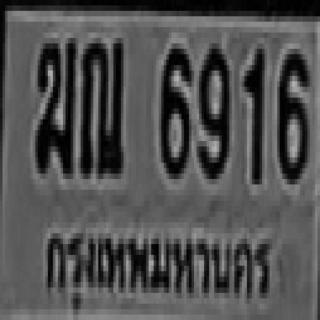A06: (34, 35, 74, 171)
A19: (78, 33, 121, 174)
N01: (242, 44, 262, 179)
N06: (277, 44, 307, 179), (159, 43, 189, 174)
N09: (197, 43, 227, 174)
P04: (40, 216, 280, 320)
